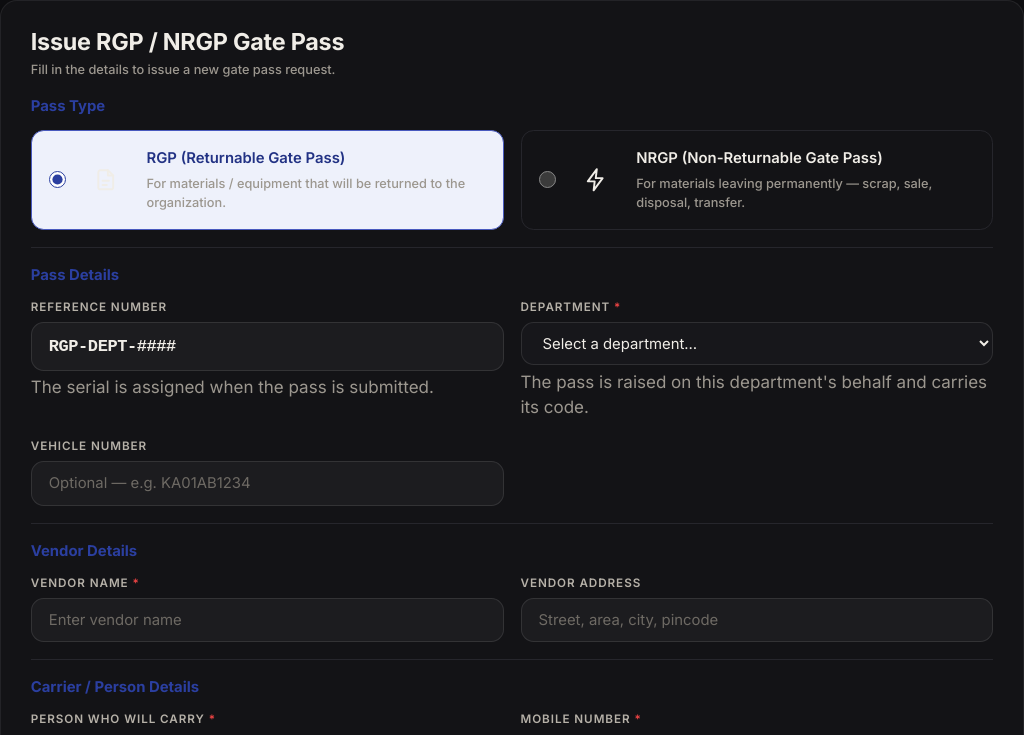
Test case: RaisePass — a raising office picks the department; an HOD never does › picking a department updates the Reference Number preview to its code
This screenshot has width=1024, height=735.
Expected: the field labelled "Reference Number" holds "RGP-DEPT-####", [31,322,504,371]
Select "Marketing (MKT)" in the dropdown labelled "Department *" at (757,344), box [520,322,993,366]
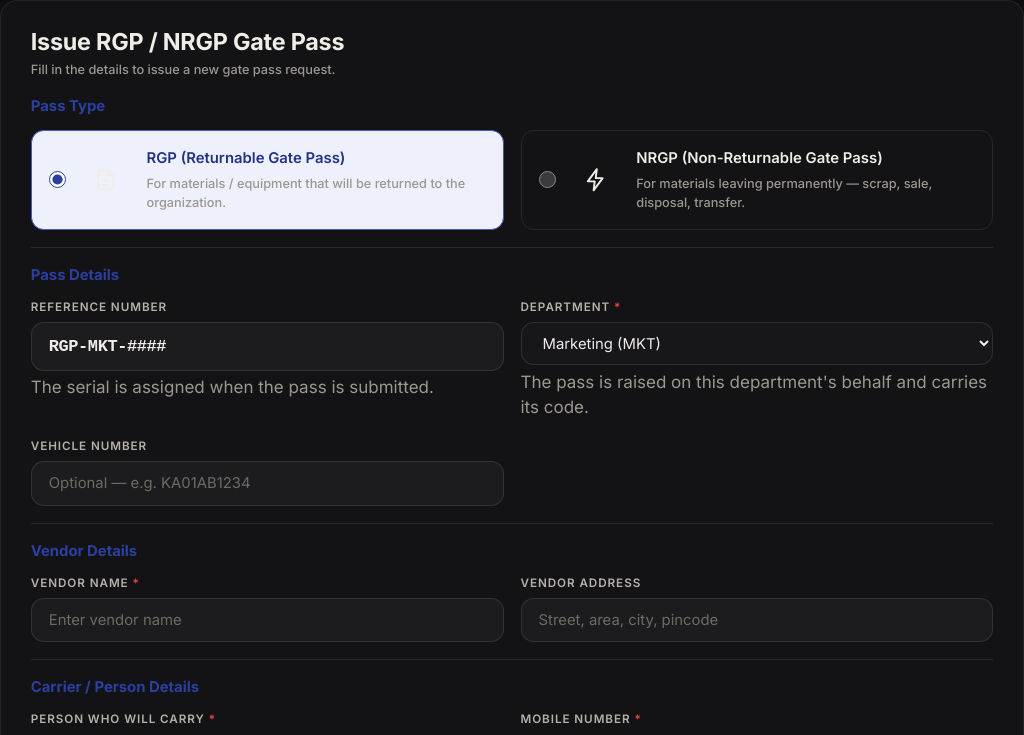
Now the field labelled "Reference Number" holds "RGP-MKT-####", box [31,322,504,371]
Select "Engineering (ENG)" in the dropdown labelled "Department *" at (757,344), box [520,322,993,366]
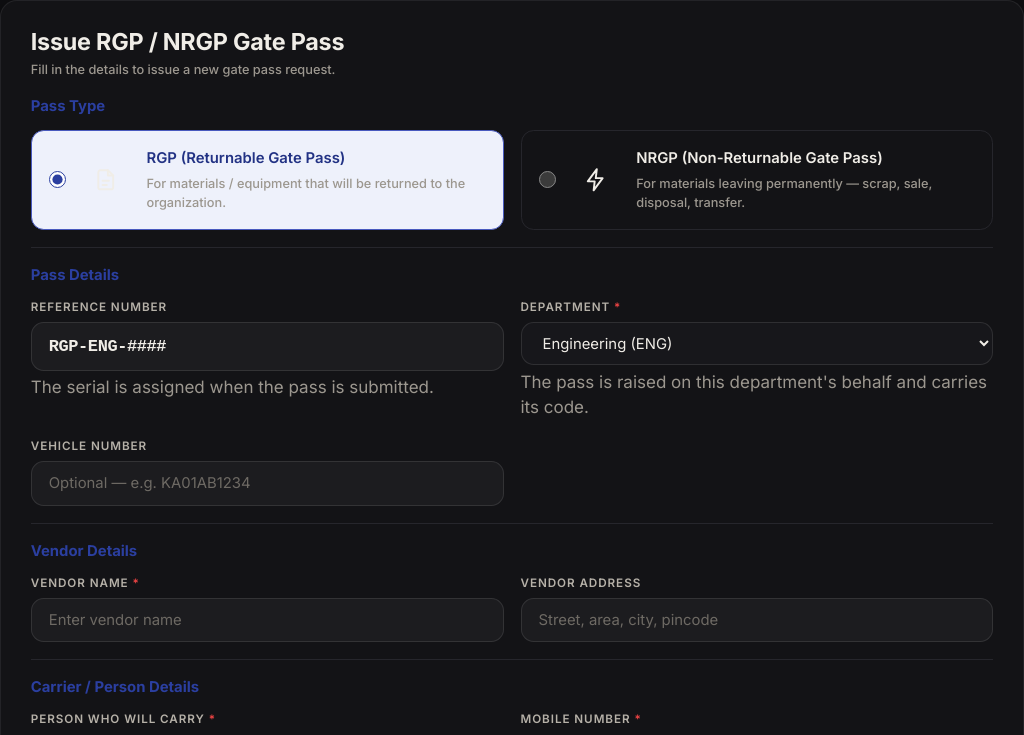
Now the field labelled "Reference Number" holds "RGP-ENG-####", box [31,322,504,371]
